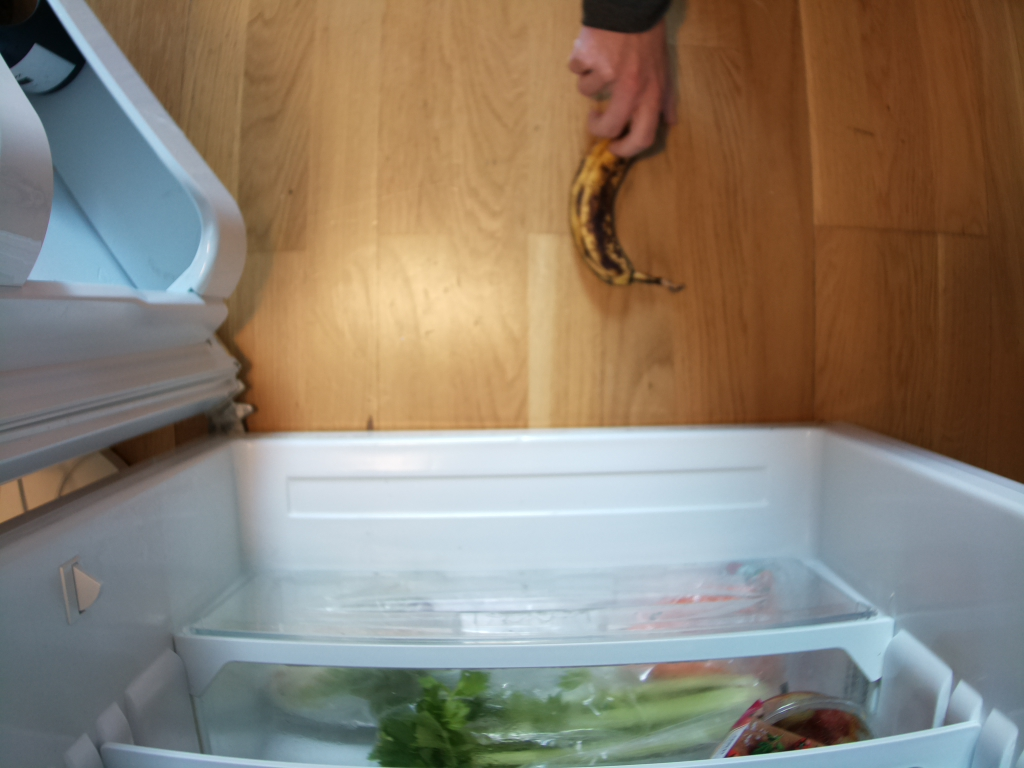banana-overripe: (568, 138, 680, 296)
